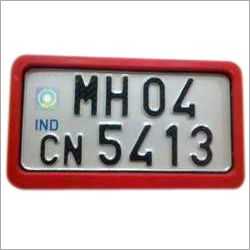number_plate: (8, 54, 245, 190)
